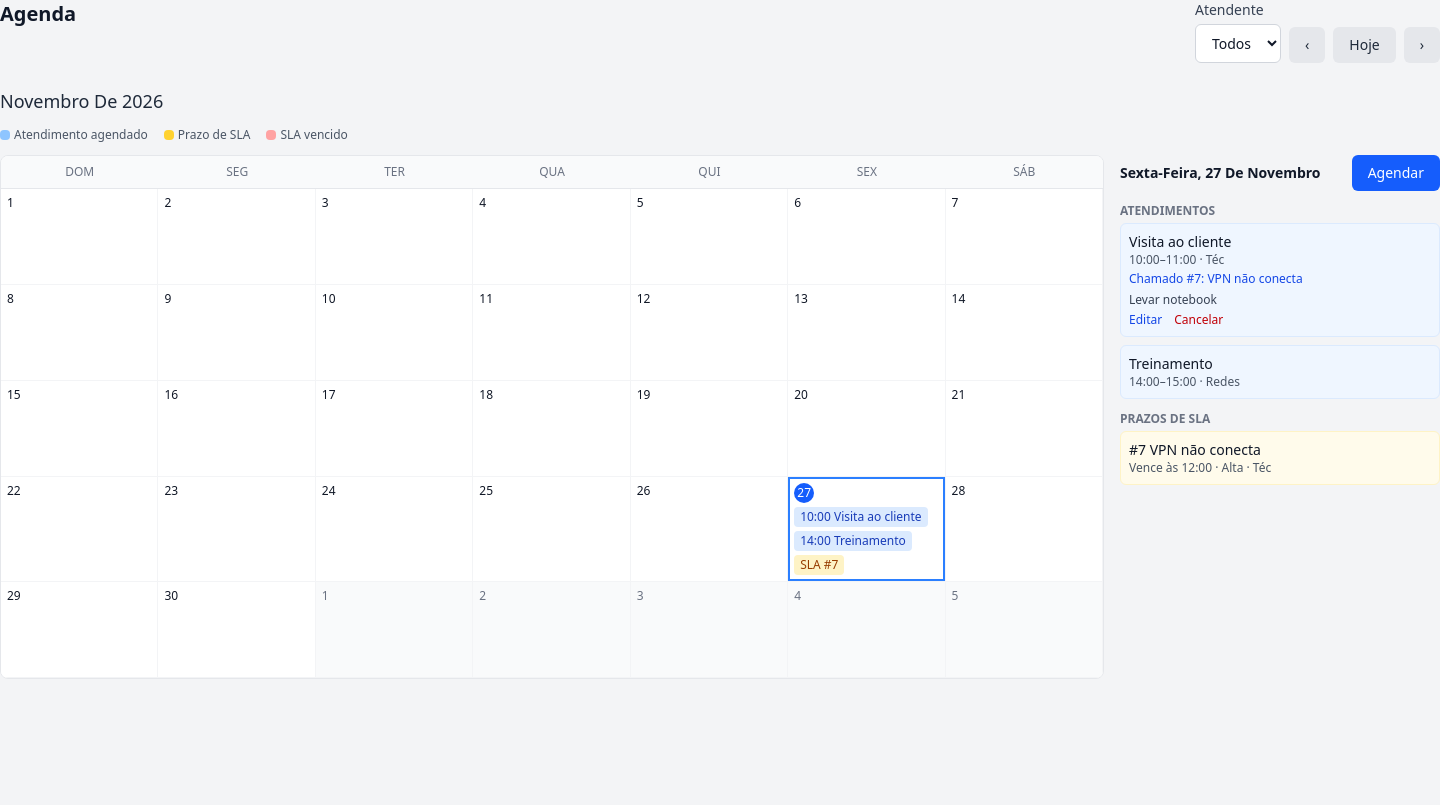
Test: Agenda › valida o formulário antes de enviar (fim depois do início)
The image size is (1440, 805).
Expected: the text "Visita ao cliente" is shown, [1129,232,1231,251]
Click the button "Agendar" at (1396, 173), box [1352,155,1439,191]
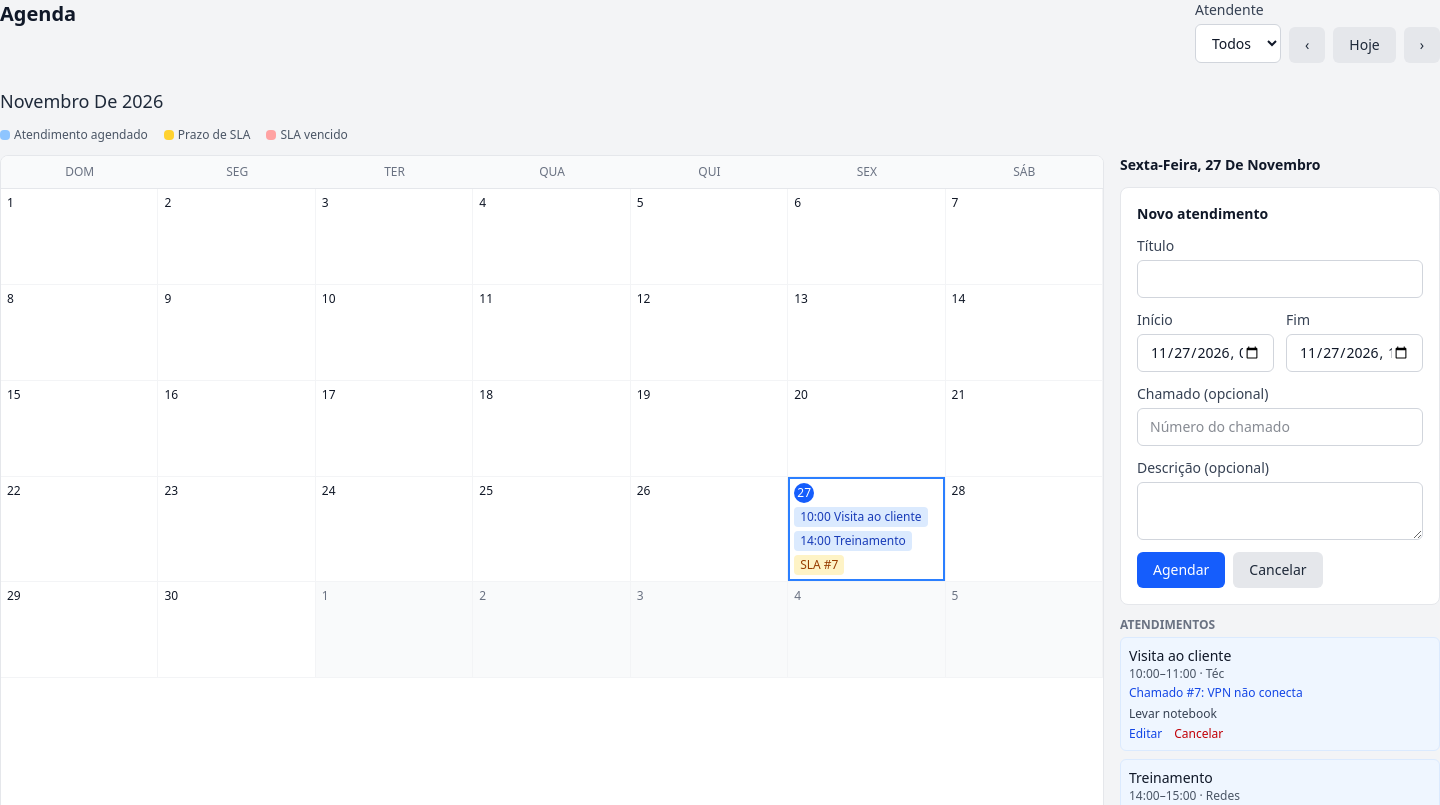
Type "Teste" into the field labelled "Título" at (1280, 279), box [1137,260,1423,298]
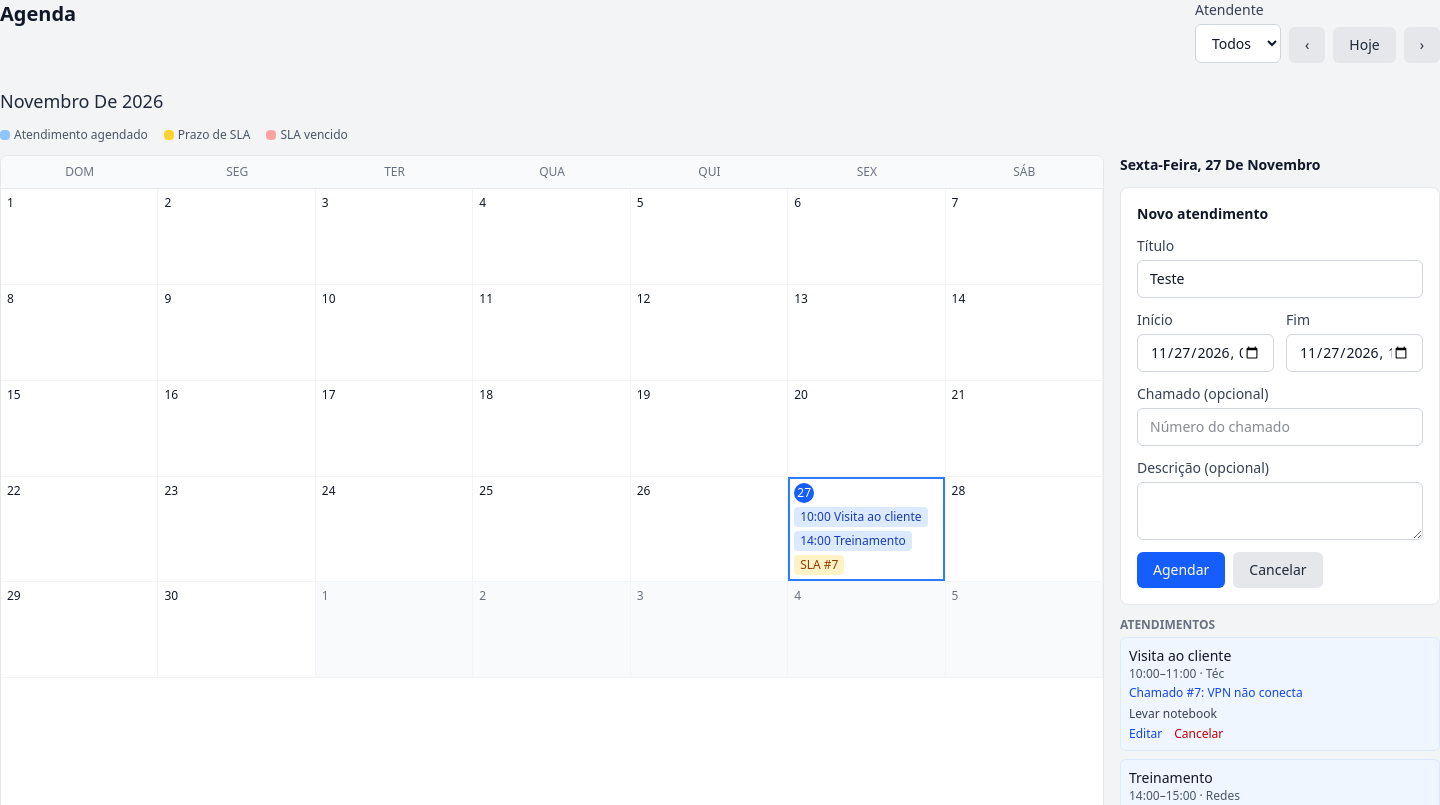
Replace the text in the field labelled "Fim" with "2026-11-27T08:00" at (1354, 353), box [1286,334,1423,372]
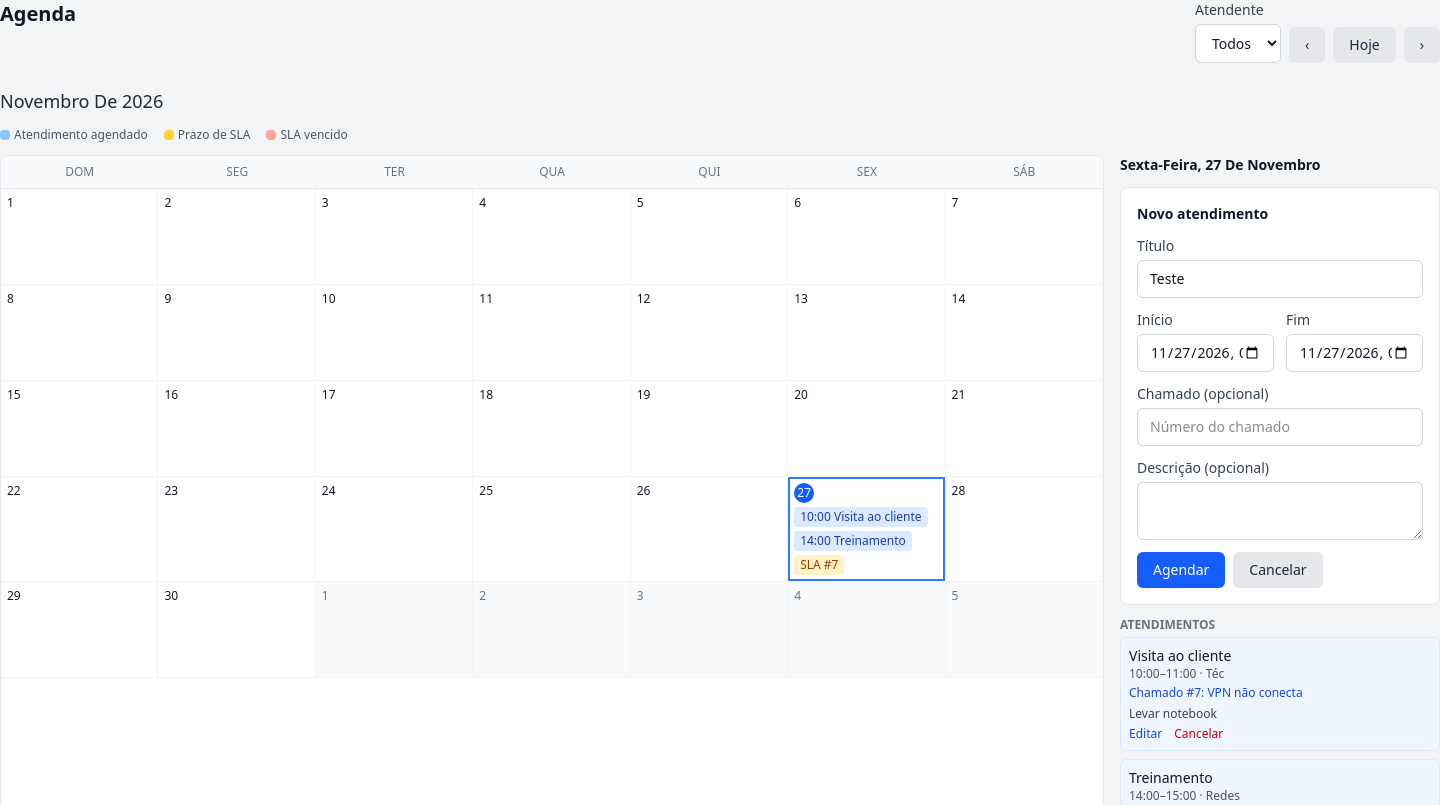
Click the button "Agendar" at (1181, 570), box [1137,552,1225,588]
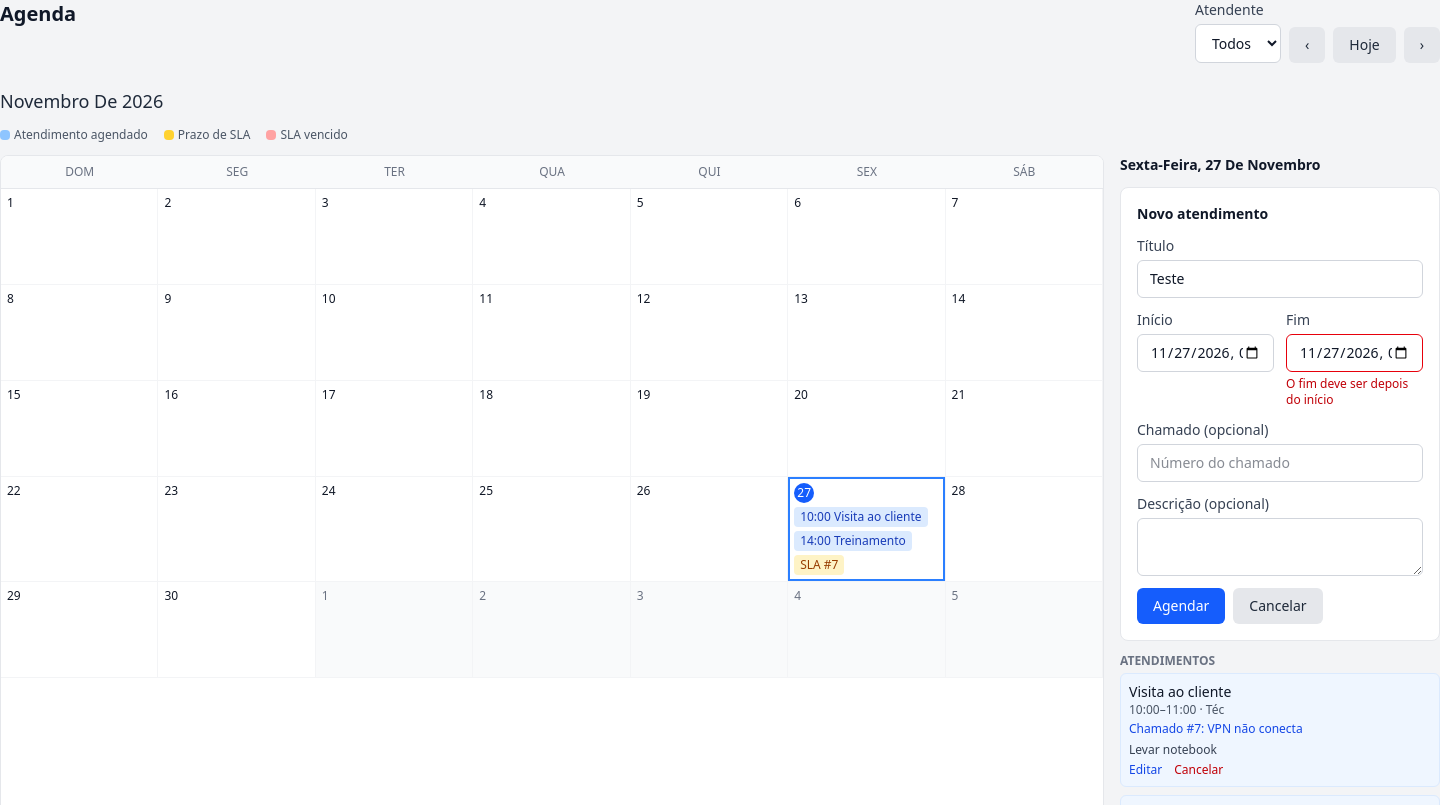
Expected: the text "O fim deve ser depois do início" is shown, [1286,376,1423,408]
